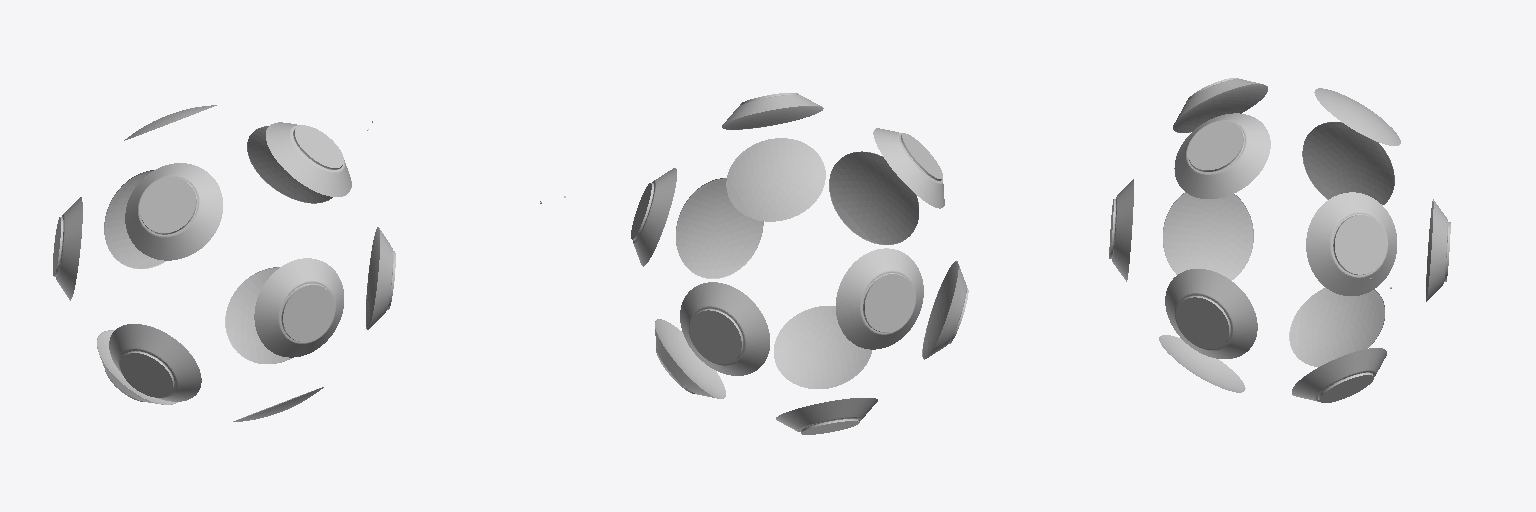
Rendered from BallMecha_Disks.obj.
3 views of the same model, side by side, from view 1: azimuth 30°, elevation 25°; view 2: azimuth 150°, elevation 25°; view 3: azimuth 270°, elevation 25° (orthographic).
Parts seen in each view (by area): view 1: Shape004.011_Mesh.151, Shape004.004_Mesh.144, Shape004.005_Mesh.145, Shape004_Mesh.053, Object001.007_Mesh.136, Shape004.010_Mesh.150, Object001.003_Mesh.132, Object001.002_Mesh.131, Shape004.003_Mesh.143, Object001.011_Mesh.140, Object001.008_Mesh.137, Object001.001_Mesh.130 (+1 smaller); view 2: Shape004.010_Mesh.150, Object001.001_Mesh.130, Shape004.009_Mesh.149, Object001.010_Mesh.139, Object001.011_Mesh.140, Object001_Mesh.052, Shape004.011_Mesh.151, Shape004.008_Mesh.148, Shape004.006_Mesh.146, Object001.007_Mesh.136, Object001.009_Mesh.138, Object001.006_Mesh.135 (+3 smaller); view 3: Shape004.008_Mesh.148, Shape004.003_Mesh.143, Shape004_Mesh.053, Object001.009_Mesh.138, Object001.008_Mesh.137, Object001.004_Mesh.133, Shape004.002_Mesh.142, Object001.001_Mesh.130, Object001.005_Mesh.134, Object001_Mesh.052, Shape004.004_Mesh.144, Shape004.009_Mesh.149 (+1 smaller).
Part boxes in pixels (x1,y1,x2,y2): Shape004.011_Mesh.151: (125,163,222,260); Shape004.004_Mesh.144: (254,258,343,357); Shape004.005_Mesh.145: (109,324,201,401); Shape004_Mesh.053: (266,122,351,196); Object001.007_Mesh.136: (226,267,290,363); Shape004.010_Mesh.150: (53,197,82,300); Object001.003_Mesh.132: (104,171,164,268); Object001.002_Mesh.131: (248,126,331,202); Shape004.003_Mesh.143: (366,227,395,329); Object001.011_Mesh.140: (366,228,379,329); Object001.008_Mesh.137: (97,331,176,404); Object001.001_Mesh.130: (124,105,216,140); Shape004.010_Mesh.150: (836,248,923,349); Object001.001_Mesh.130: (726,138,825,221); Shape004.009_Mesh.149: (680,282,769,375); Object001.010_Mesh.139: (830,152,918,244); Object001.011_Mesh.140: (676,178,762,277); Object001_Mesh.052: (774,306,871,388); Shape004.011_Mesh.151: (873,128,944,208); Shape004.008_Mesh.148: (631,168,676,266); Shape004.006_Mesh.146: (776,398,877,434); Object001.007_Mesh.136: (655,319,725,398); Object001.009_Mesh.138: (923,262,958,358); Object001.006_Mesh.135: (722,106,822,129); Shape004.008_Mesh.148: (1306,192,1396,295); Shape004.003_Mesh.143: (1165,269,1257,358); Shape004_Mesh.053: (1174,113,1270,198); Object001.009_Mesh.138: (1163,192,1252,279); Object001.008_Mesh.137: (1290,288,1384,366); Object001.004_Mesh.133: (1303,122,1393,204); Shape004.002_Mesh.142: (1292,348,1386,402); Object001.001_Mesh.130: (1314,88,1400,145); Object001.005_Mesh.134: (1173,84,1267,132); Object001_Mesh.052: (1159,335,1245,392); Shape004.004_Mesh.144: (1109,179,1133,281); Shape004.009_Mesh.149: (1426,199,1450,300).
Size of the model in its own units: 2.32 by 1.8 by 1.98.